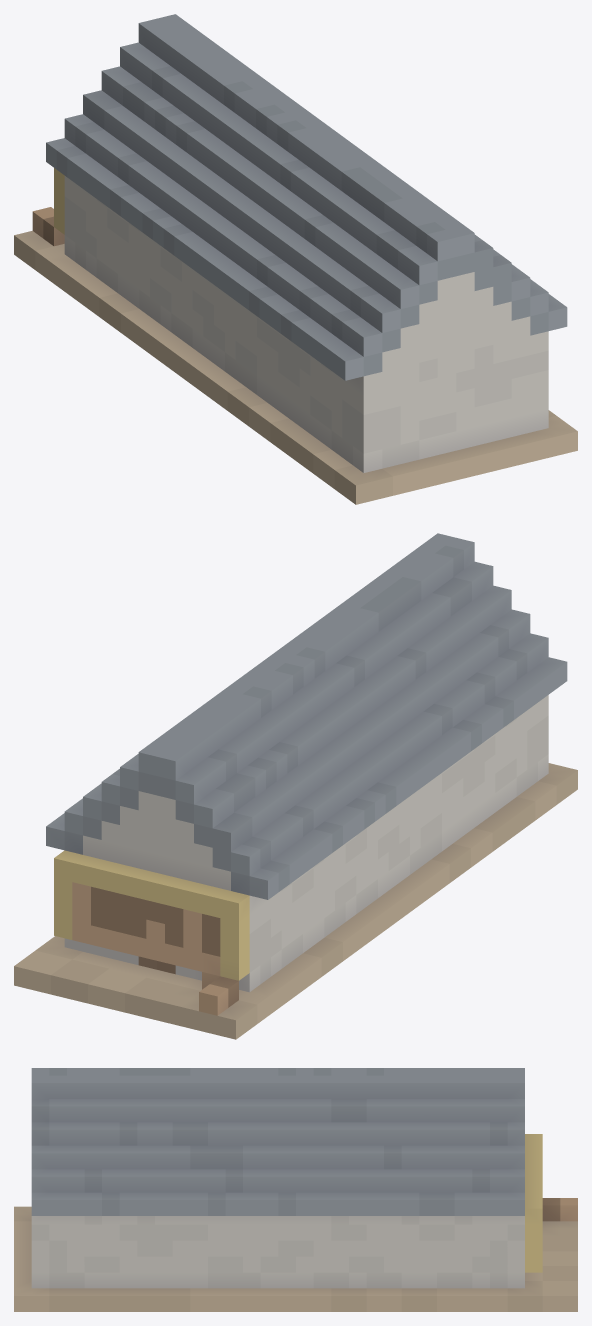
Rendered from coal_mine.lite.glb.
3 renders of one model, top to bottom at view 1: azimuth 30°, elevation 25°; view 2: azimuth 150°, elevation 25°; view 3: azimuth 270°, elevation 25°, orthographic. The views are drawn at different scales.
Parts seen in each view (by area): view 1: coal_mine; view 2: coal_mine; view 3: coal_mine.
Boxes of the visible parts, x1,y1,x2,y2 form: coal_mine: (14,14,577,504); coal_mine: (14,533,577,1039); coal_mine: (14,1068,577,1311).
Bounding box in the file's own units: 3 × 3 × 8.
